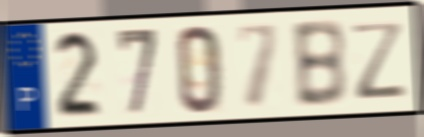0: (175, 22, 223, 116)
2: (52, 27, 105, 121)
7: (114, 26, 160, 119), (235, 20, 280, 112)
B: (289, 16, 349, 110)
Z: (348, 18, 409, 102)
